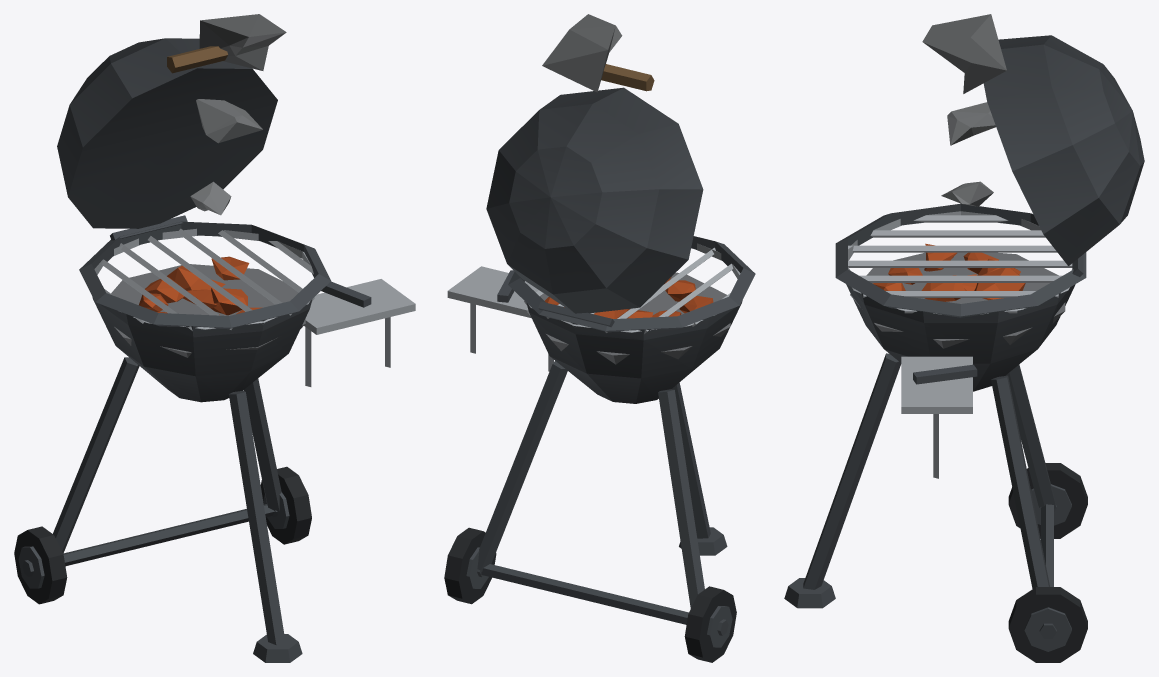
Rendered from bbq_grill.glb.
3 renders of one model, left to right at view 1: azimuth 30°, elevation 25°; view 2: azimuth 150°, elevation 25°; view 3: azimuth 270°, elevation 25°, orthographic. The views are drawn at different scales.
Visible parts, largest first — view 1: bbq_grill; view 2: bbq_grill; view 3: bbq_grill.
Part boxes in pixels (x1,y1,x2,y2): bbq_grill: [14, 14, 415, 662]; bbq_grill: [444, 14, 755, 662]; bbq_grill: [784, 14, 1144, 662].
Size of the model in its own units: 0.9625 by 1.64 by 0.9079.
